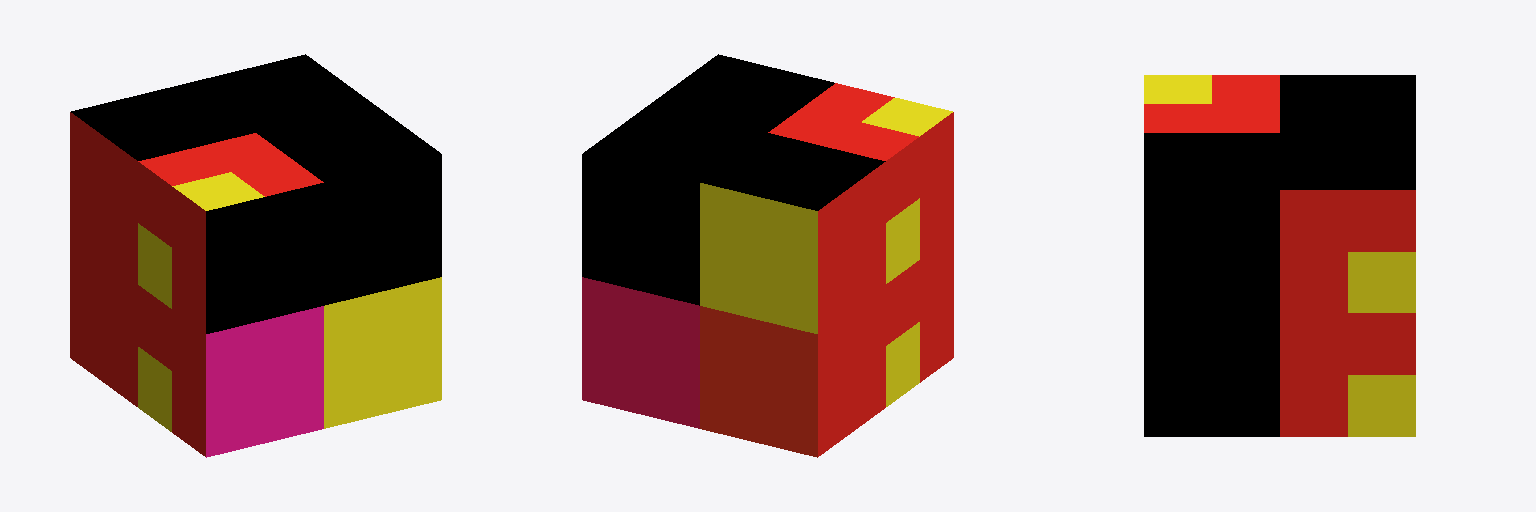
3 renders of one model, left to right at view 1: azimuth 30°, elevation 25°; view 2: azimuth 150°, elevation 25°; view 3: azimuth 270°, elevation 25°, orthographic.
Parts seen in each view (by area): view 1: cube; view 2: cube; view 3: cube.
Part boxes in pixels (bbox=[...]): cube: bbox=[70, 54, 441, 457]; cube: bbox=[582, 54, 953, 457]; cube: bbox=[1144, 75, 1415, 436].
Bounding box in the file's own units: 1 × 1 × 1.
1 materials, 1 textured.